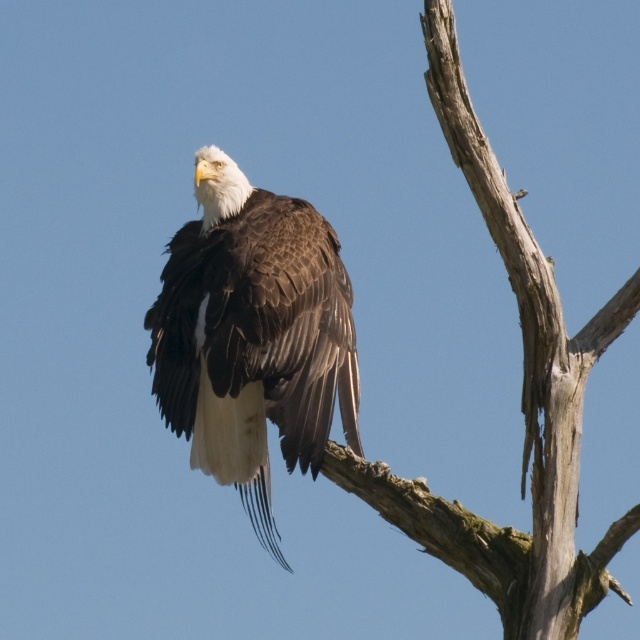Eagle: (142, 145, 365, 572)
